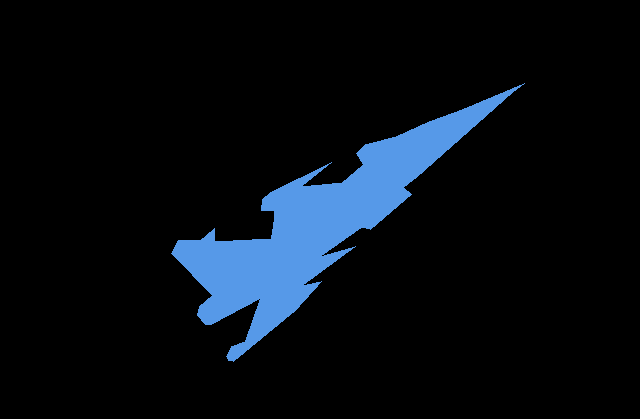Airplane: (171, 83, 525, 362)
